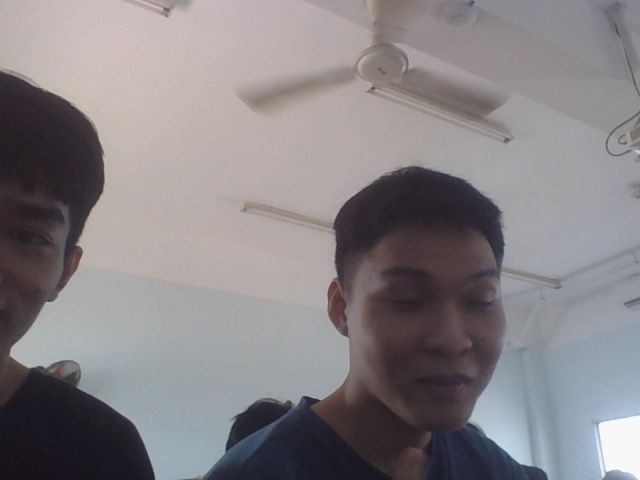real: (319, 153, 526, 447)
